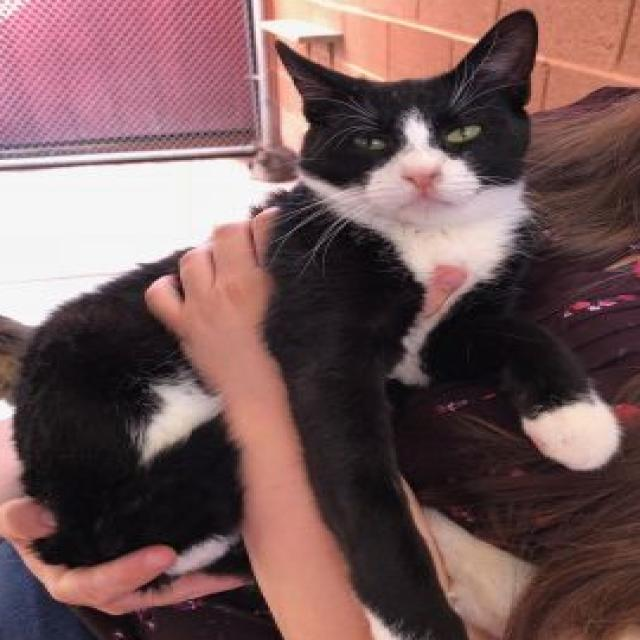Tuxedo: (5, 3, 626, 640)
